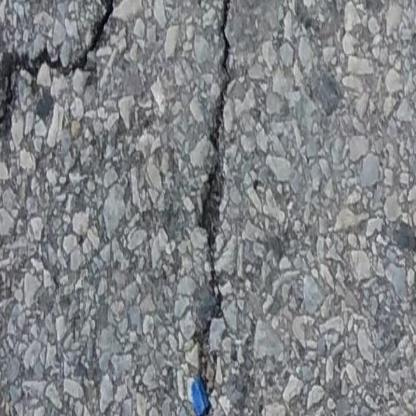Cracks: (188, 0, 237, 416), (0, 0, 120, 144)
